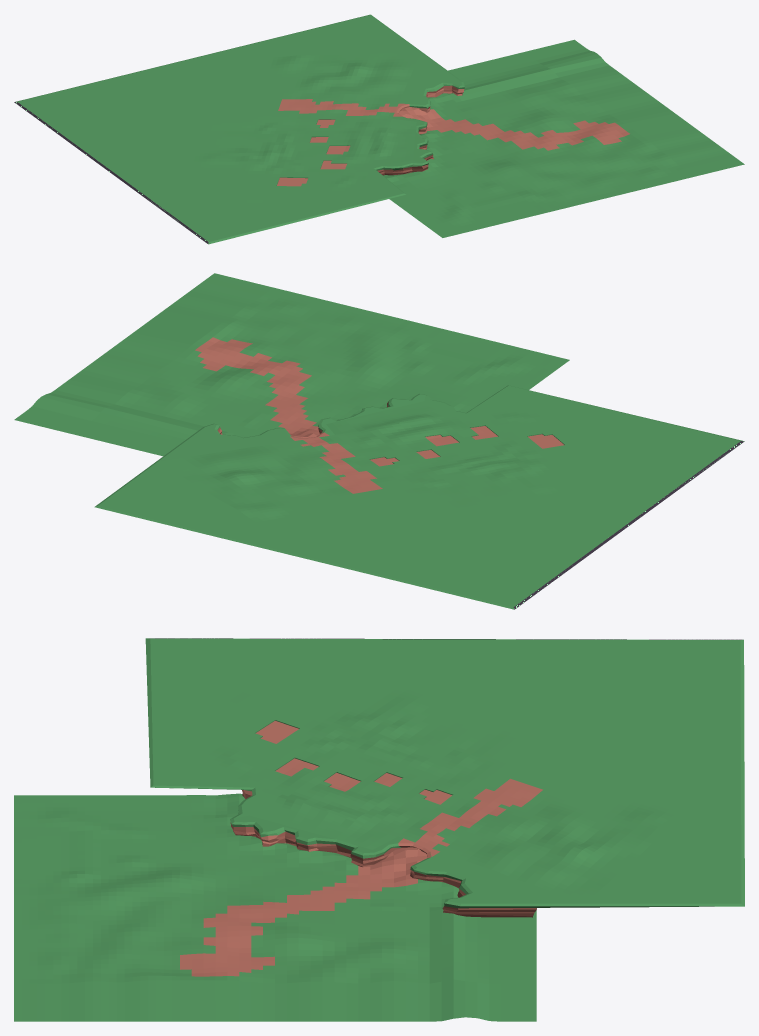
Rendered from spawnTerrain.fbx.
3 renders of one model, top to bottom at view 1: azimuth 30°, elevation 25°; view 2: azimuth 150°, elevation 25°; view 3: azimuth 270°, elevation 25°, orthographic. The views are drawn at different scales.
Visible parts, largest first — view 1: Plane, Plane.001; view 2: Plane, Plane.001; view 3: Plane, Plane.001.
Boxes of the visible parts, x1,y1,x2,y2 form: Plane: (14,14,464,244); Plane.001: (383,39,744,237); Plane: (94,385,744,609); Plane.001: (14,273,569,456); Plane: (145,638,744,917); Plane.001: (14,793,536,1021).
Size of the model in its own units: 3731 by 93.97 by 3119.
